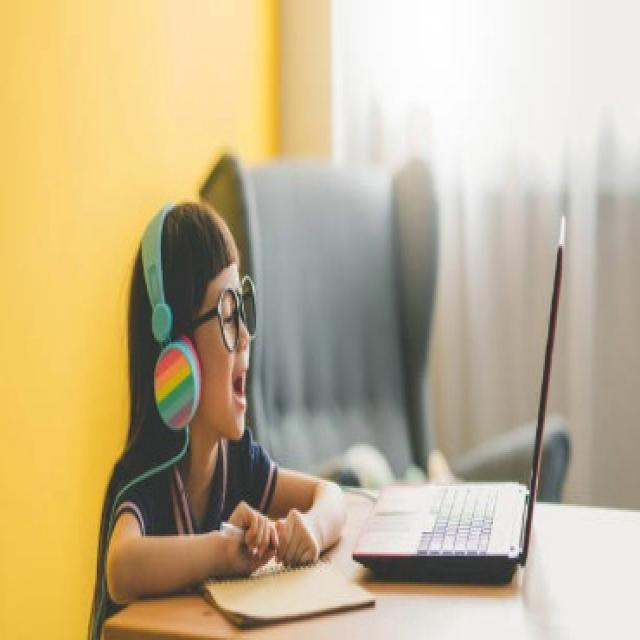child: (93, 196, 349, 598)
